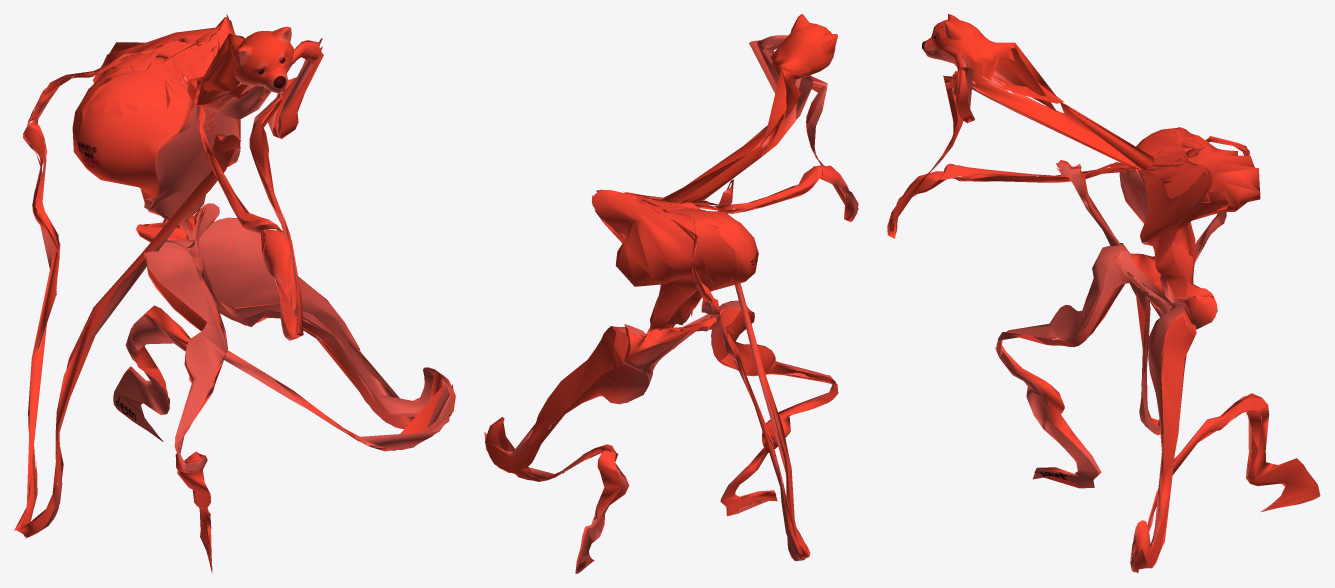
Rendered from CROOKEDASWEFUNASYU-RED-v101.glb.
The picture shows the model from 3 angles, left to right: view 1: azimuth 30°, elevation 25°; view 2: azimuth 150°, elevation 25°; view 3: azimuth 270°, elevation 25°; orthographic projection. The views are drawn at different scales.
Visible parts, largest first — view 1: CROOKEDASWEFUNASYU-RED; view 2: CROOKEDASWEFUNASYU-RED; view 3: CROOKEDASWEFUNASYU-RED.
Part boxes in pixels (<box>): CROOKEDASWEFUNASYU-RED: <box>14,14,455,572</box>; CROOKEDASWEFUNASYU-RED: <box>484,14,858,573</box>; CROOKEDASWEFUNASYU-RED: <box>887,14,1320,573</box>.
Size of the model in its own units: 1.55 by 2.01 by 1.69.
Materials: 1 (1 with a texture image).
